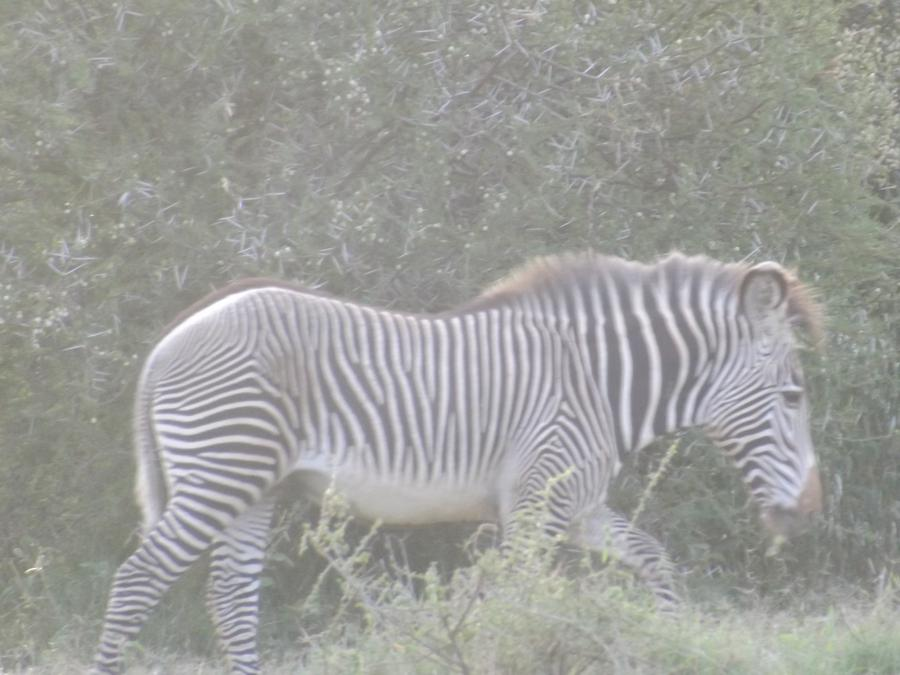zebra_grevys: (135, 265, 616, 509)
